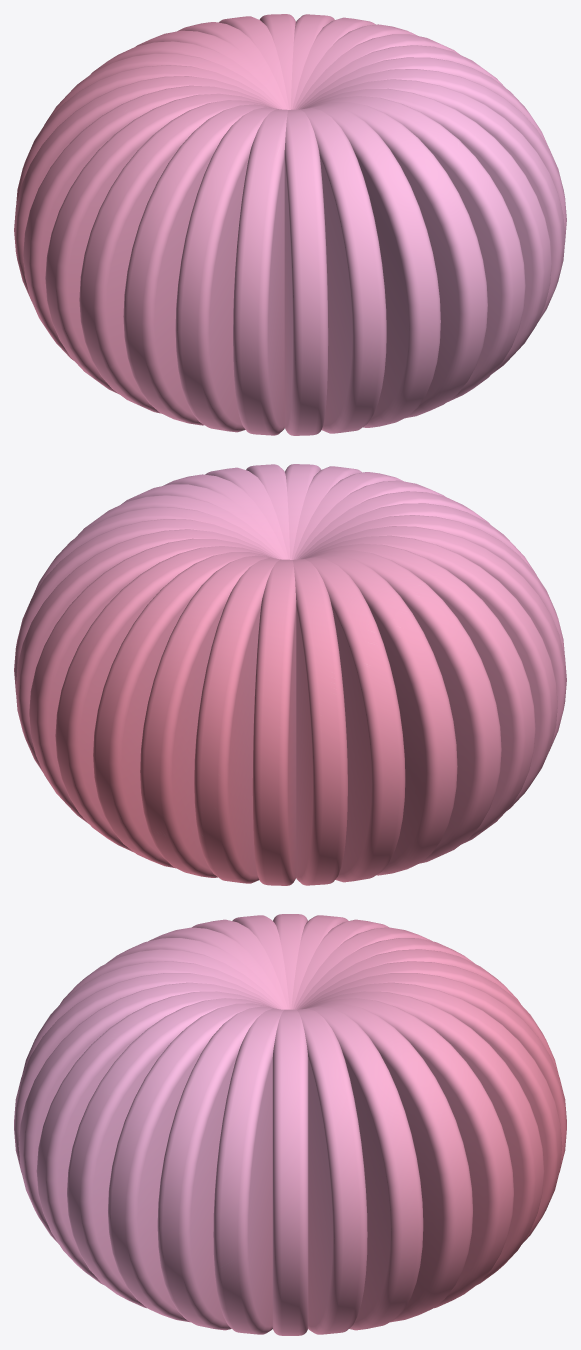
File: 02_pumpod_animated.glb
3 renders of one model, top to bottom at view 1: azimuth 30°, elevation 25°; view 2: azimuth 150°, elevation 25°; view 3: azimuth 270°, elevation 25°, orthographic.
Visible parts, largest first — view 1: 02_pumpod; view 2: 02_pumpod; view 3: 02_pumpod.
Boxes of the visible parts, bbox=[...] form: 02_pumpod: bbox=[14, 14, 566, 435]; 02_pumpod: bbox=[14, 464, 566, 885]; 02_pumpod: bbox=[14, 914, 566, 1335].
Size of the model in its own units: 0.1404 by 0.0827 by 0.1404.
1 material, 1 textured.
